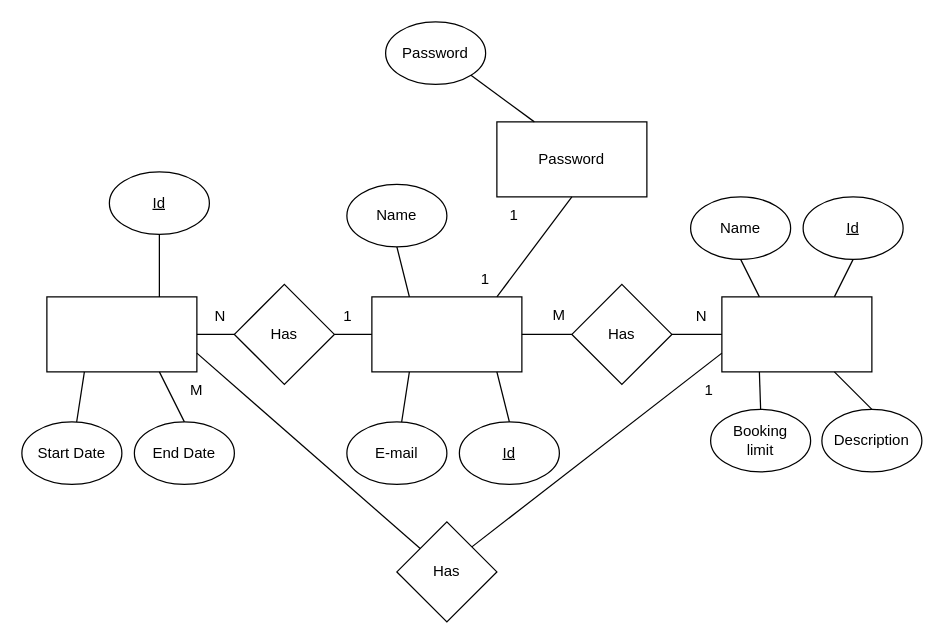
This 944x644 diagram has some shape labels left out. Each missing label, with the box of its shape:
Booking: (46, 296, 197, 372)
Service: (721, 296, 872, 372)
User: (371, 296, 522, 372)
